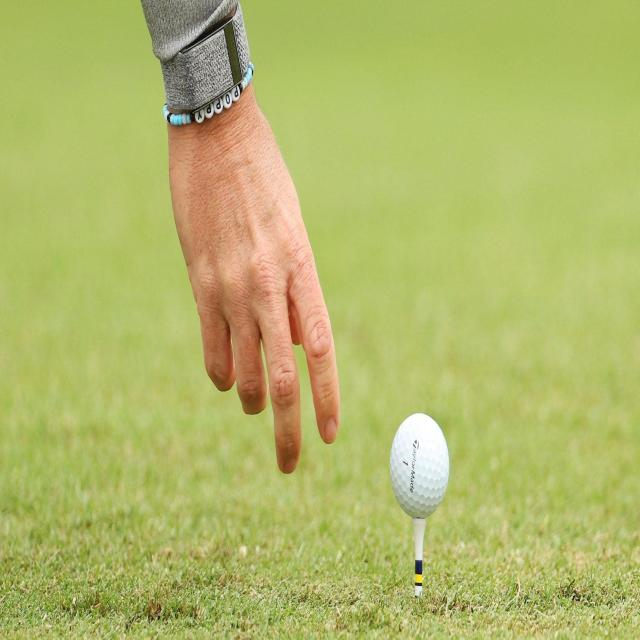ball: (386, 404, 456, 520)
